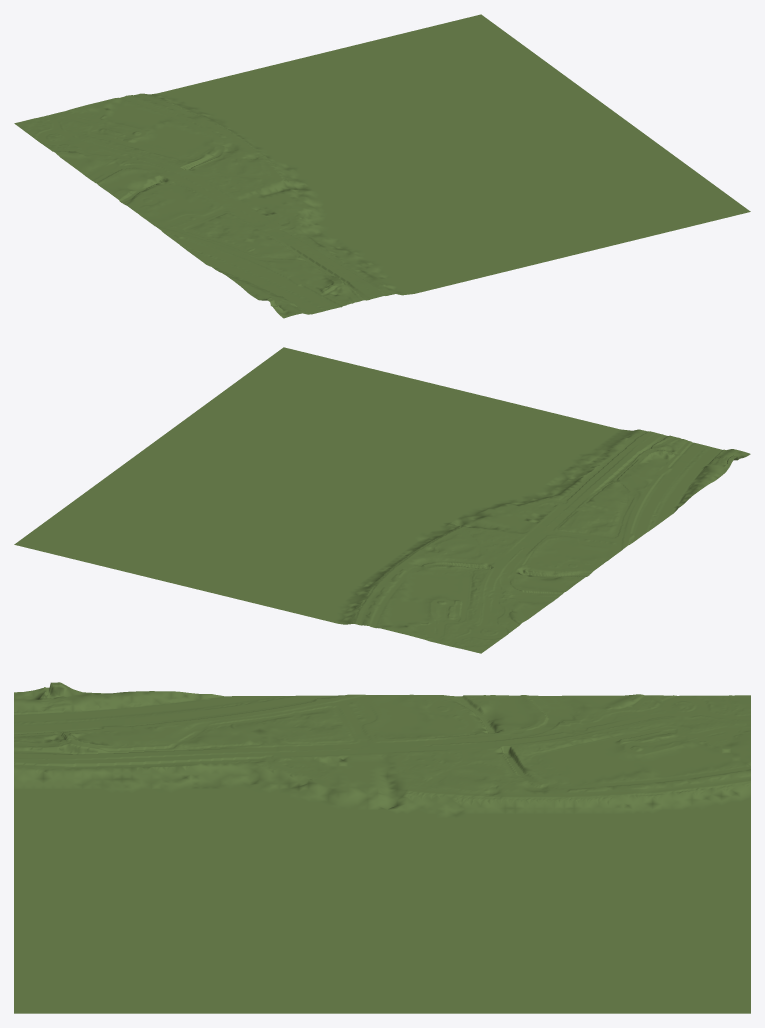
File: terrain_2_3.glb
The picture shows the model from 3 angles, top to bottom: view 1: azimuth 30°, elevation 25°; view 2: azimuth 150°, elevation 25°; view 3: azimuth 270°, elevation 25°; orthographic projection. The views are drawn at different scales.
Parts seen in each view (by area): view 1: terrain_2_3; view 2: terrain_2_3; view 3: terrain_2_3.
Boxes of the visible parts, left/top/right/bottom form: terrain_2_3: left=14, top=14, right=750, bottom=318; terrain_2_3: left=14, top=347, right=750, bottom=653; terrain_2_3: left=14, top=682, right=750, bottom=1013.
Bounding box in the file's own units: 600 × 20.71 × 600.
